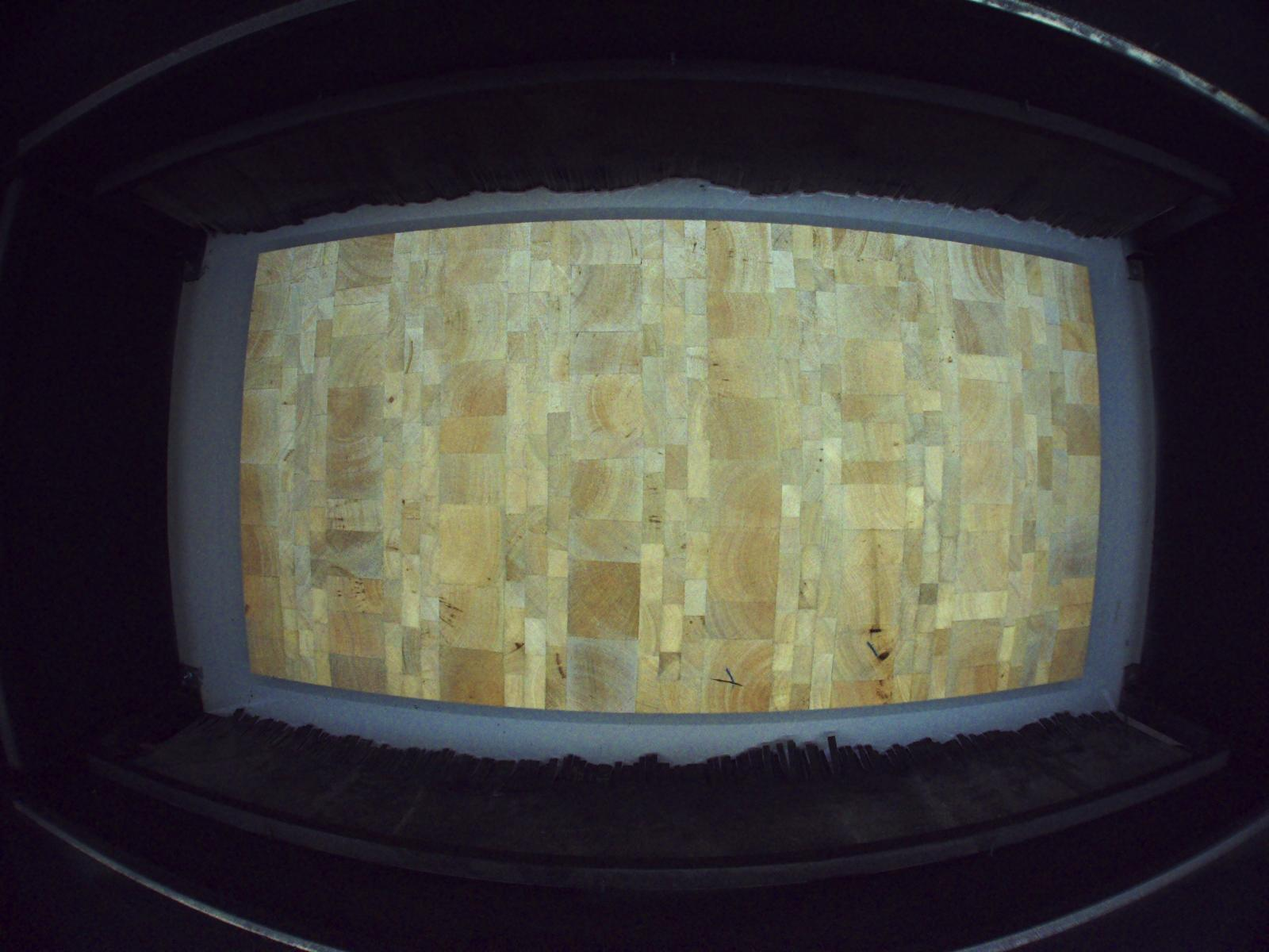sheck_ecuatoriano: (867, 623, 884, 643)
